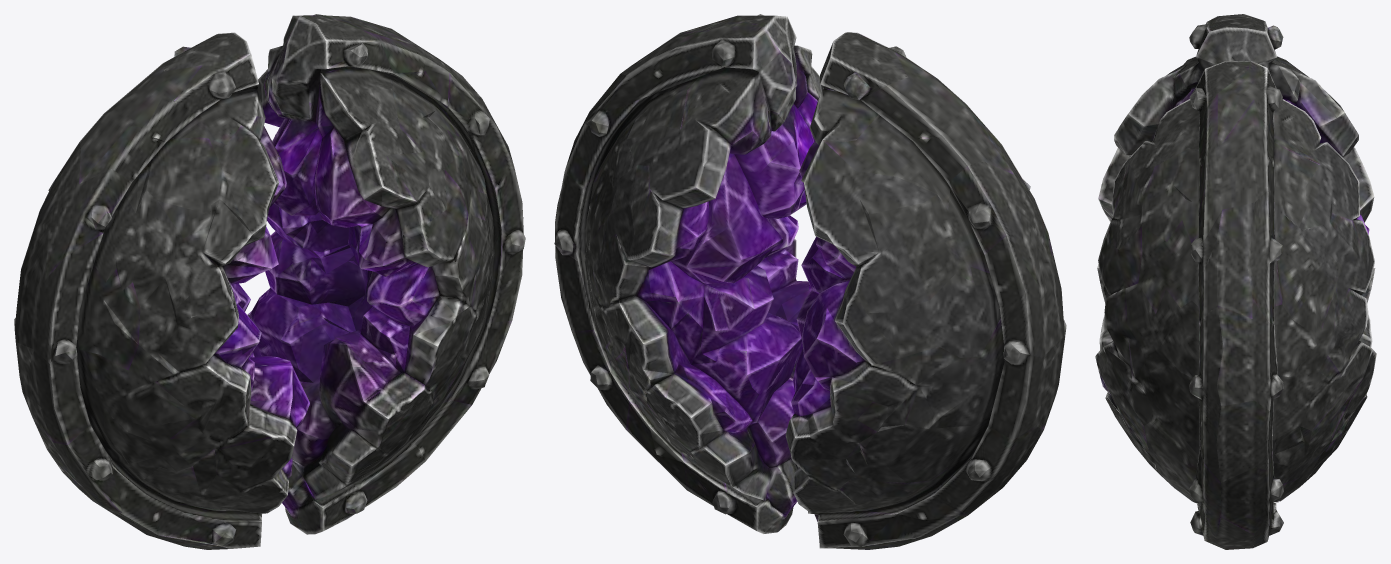
Rendered from geode_shield.glb.
3 views of the same model, side by side, from view 1: azimuth 30°, elevation 25°; view 2: azimuth 150°, elevation 25°; view 3: azimuth 270°, elevation 25° (orthographic). The views are drawn at different scales.
Size of the model in its own units: 0.871 by 0.8692 by 0.4589.
1 material, 1 textured.
